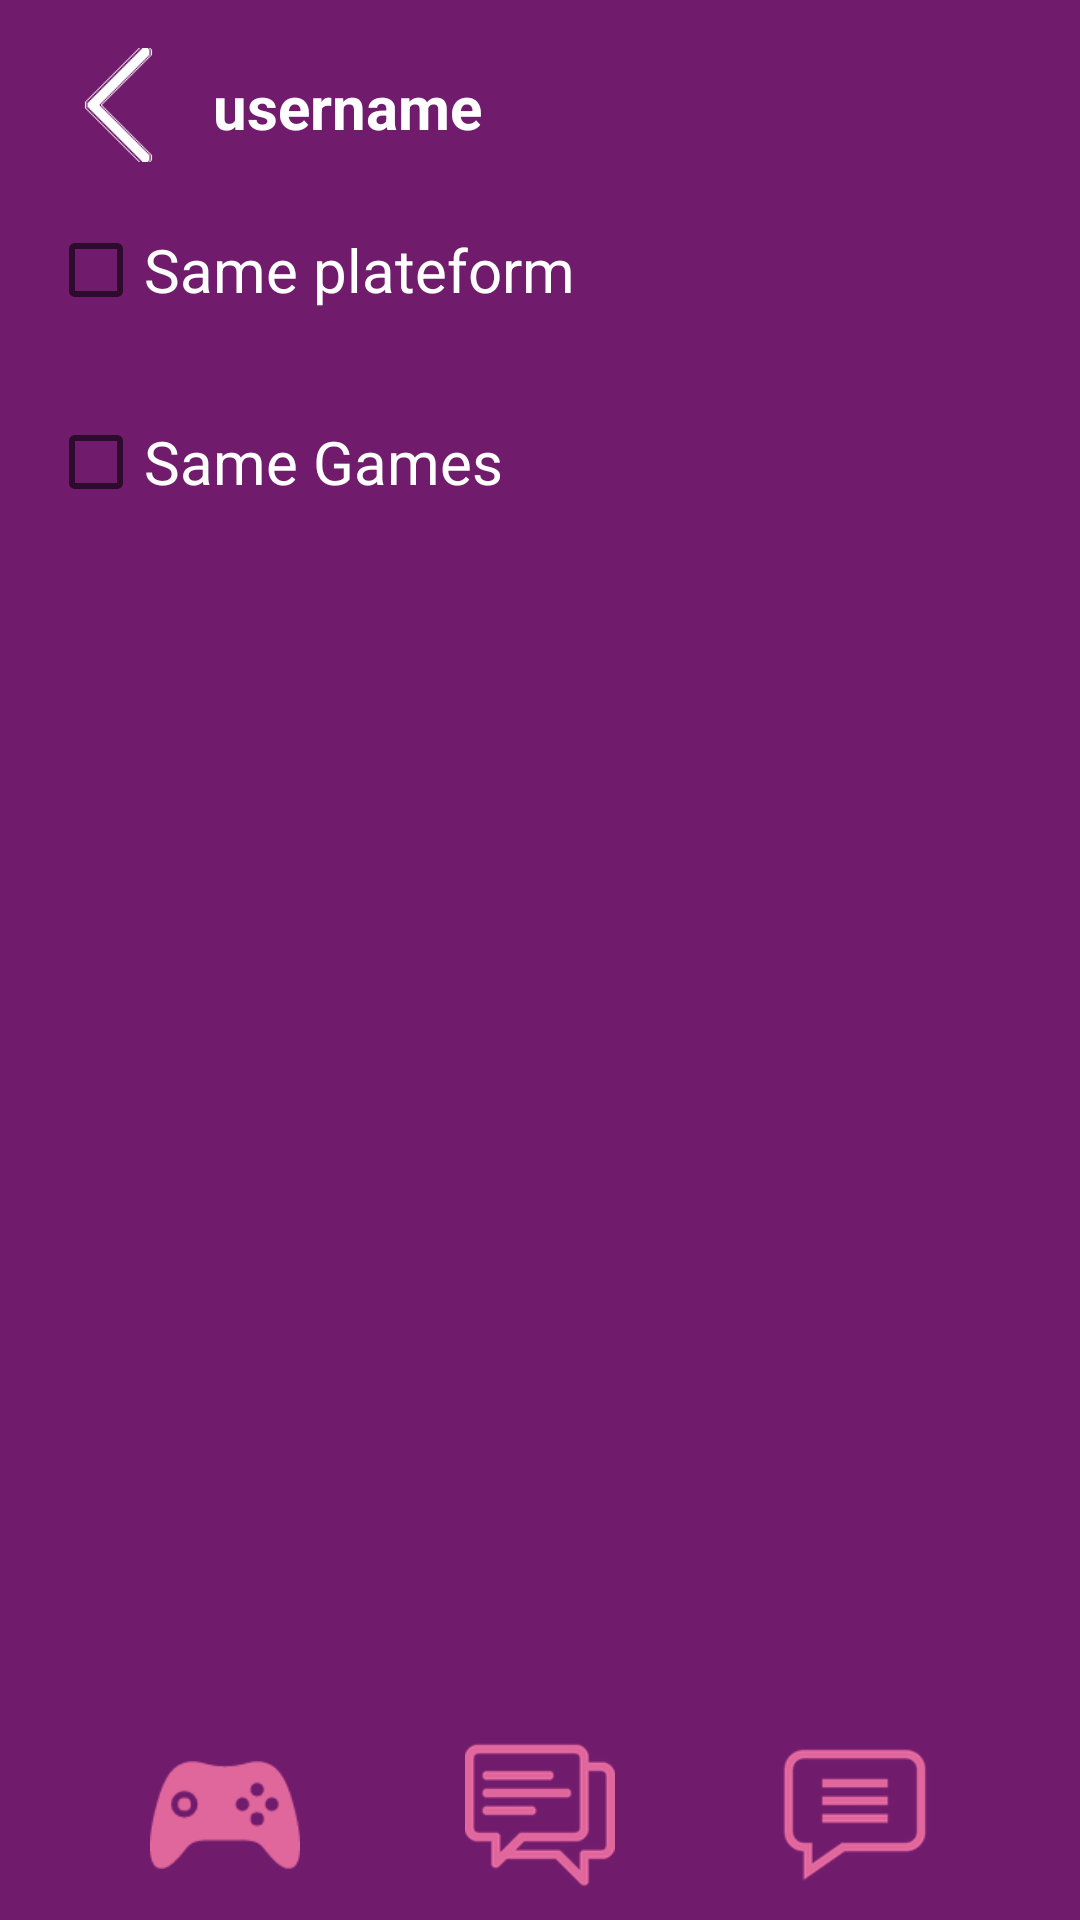

Icons on this 1080w x 1920h Android screen, each with its box as (x1, y1, x2, y2):
gamepad: (150, 1761, 300, 1869)
returnbutton: (85, 48, 152, 162)
